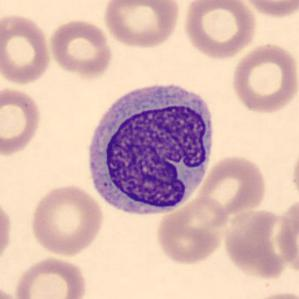Monocyte: (80, 76, 220, 221)
RBC: (28, 182, 106, 257), (221, 205, 296, 282), (154, 194, 230, 266), (229, 41, 298, 116), (195, 153, 268, 219), (181, 0, 259, 61), (46, 18, 114, 80), (101, 0, 182, 50), (0, 11, 53, 87), (12, 255, 89, 299), (0, 84, 44, 159), (0, 194, 15, 269), (239, 0, 298, 19), (288, 139, 299, 208), (246, 289, 298, 299)
